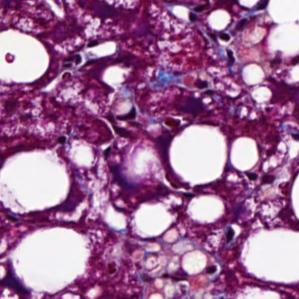inflammation: (193, 26, 239, 68), (98, 99, 145, 140), (238, 168, 280, 189)
